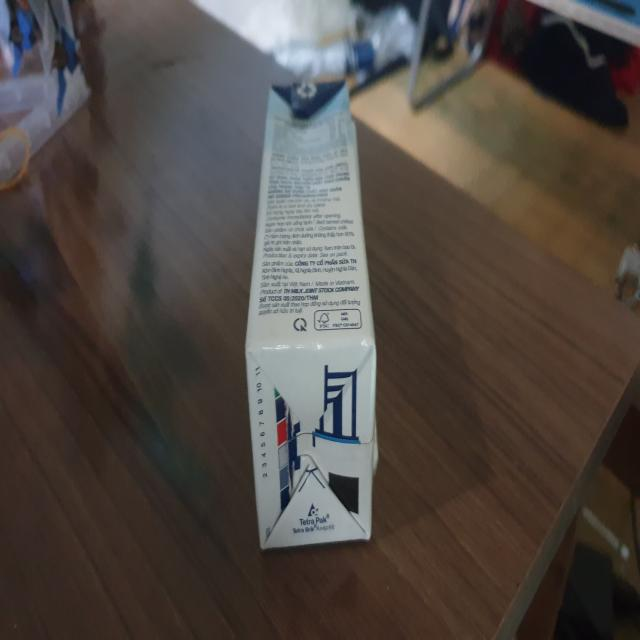TH: (243, 67, 382, 556)
